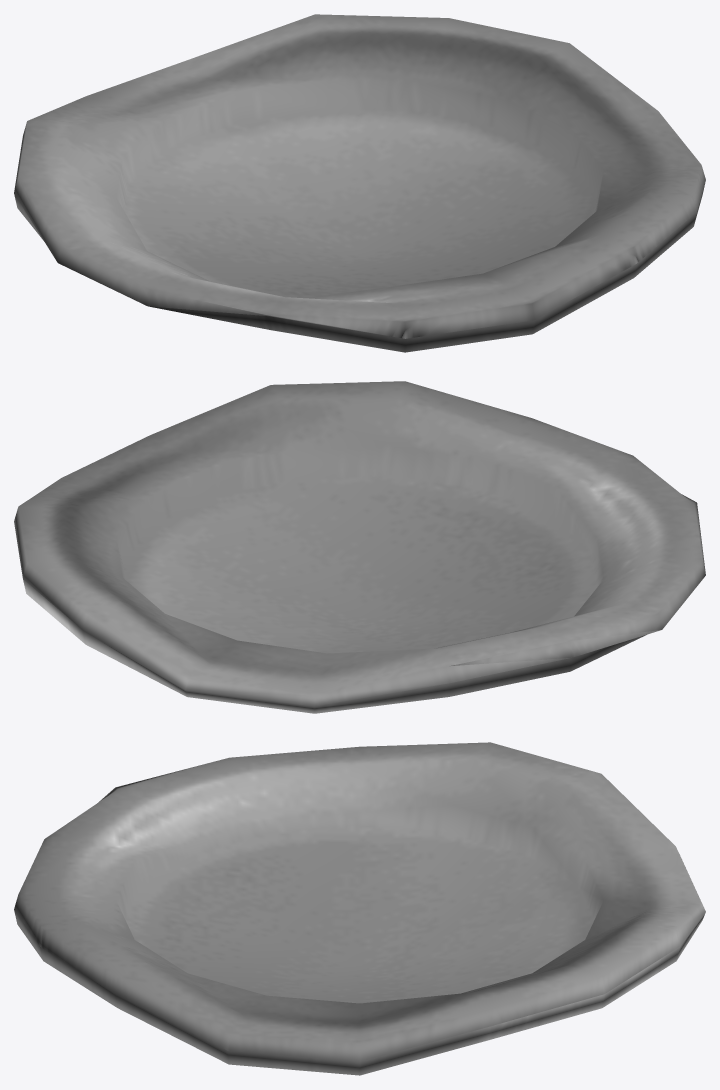
File: tavern_plate.fbx
The picture shows the model from 3 angles, top to bottom: view 1: azimuth 30°, elevation 25°; view 2: azimuth 150°, elevation 25°; view 3: azimuth 270°, elevation 25°; orthographic projection.
Visible parts, largest first — view 1: Default_Layer; view 2: Default_Layer; view 3: Default_Layer.
Boxes of the visible parts, <box> form: Default_Layer: <box>14,14,705,352</box>; Default_Layer: <box>14,381,705,713</box>; Default_Layer: <box>14,742,705,1075</box>.
Size of the model in its own units: 279 by 42.21 by 279.
1 material, 1 textured.
